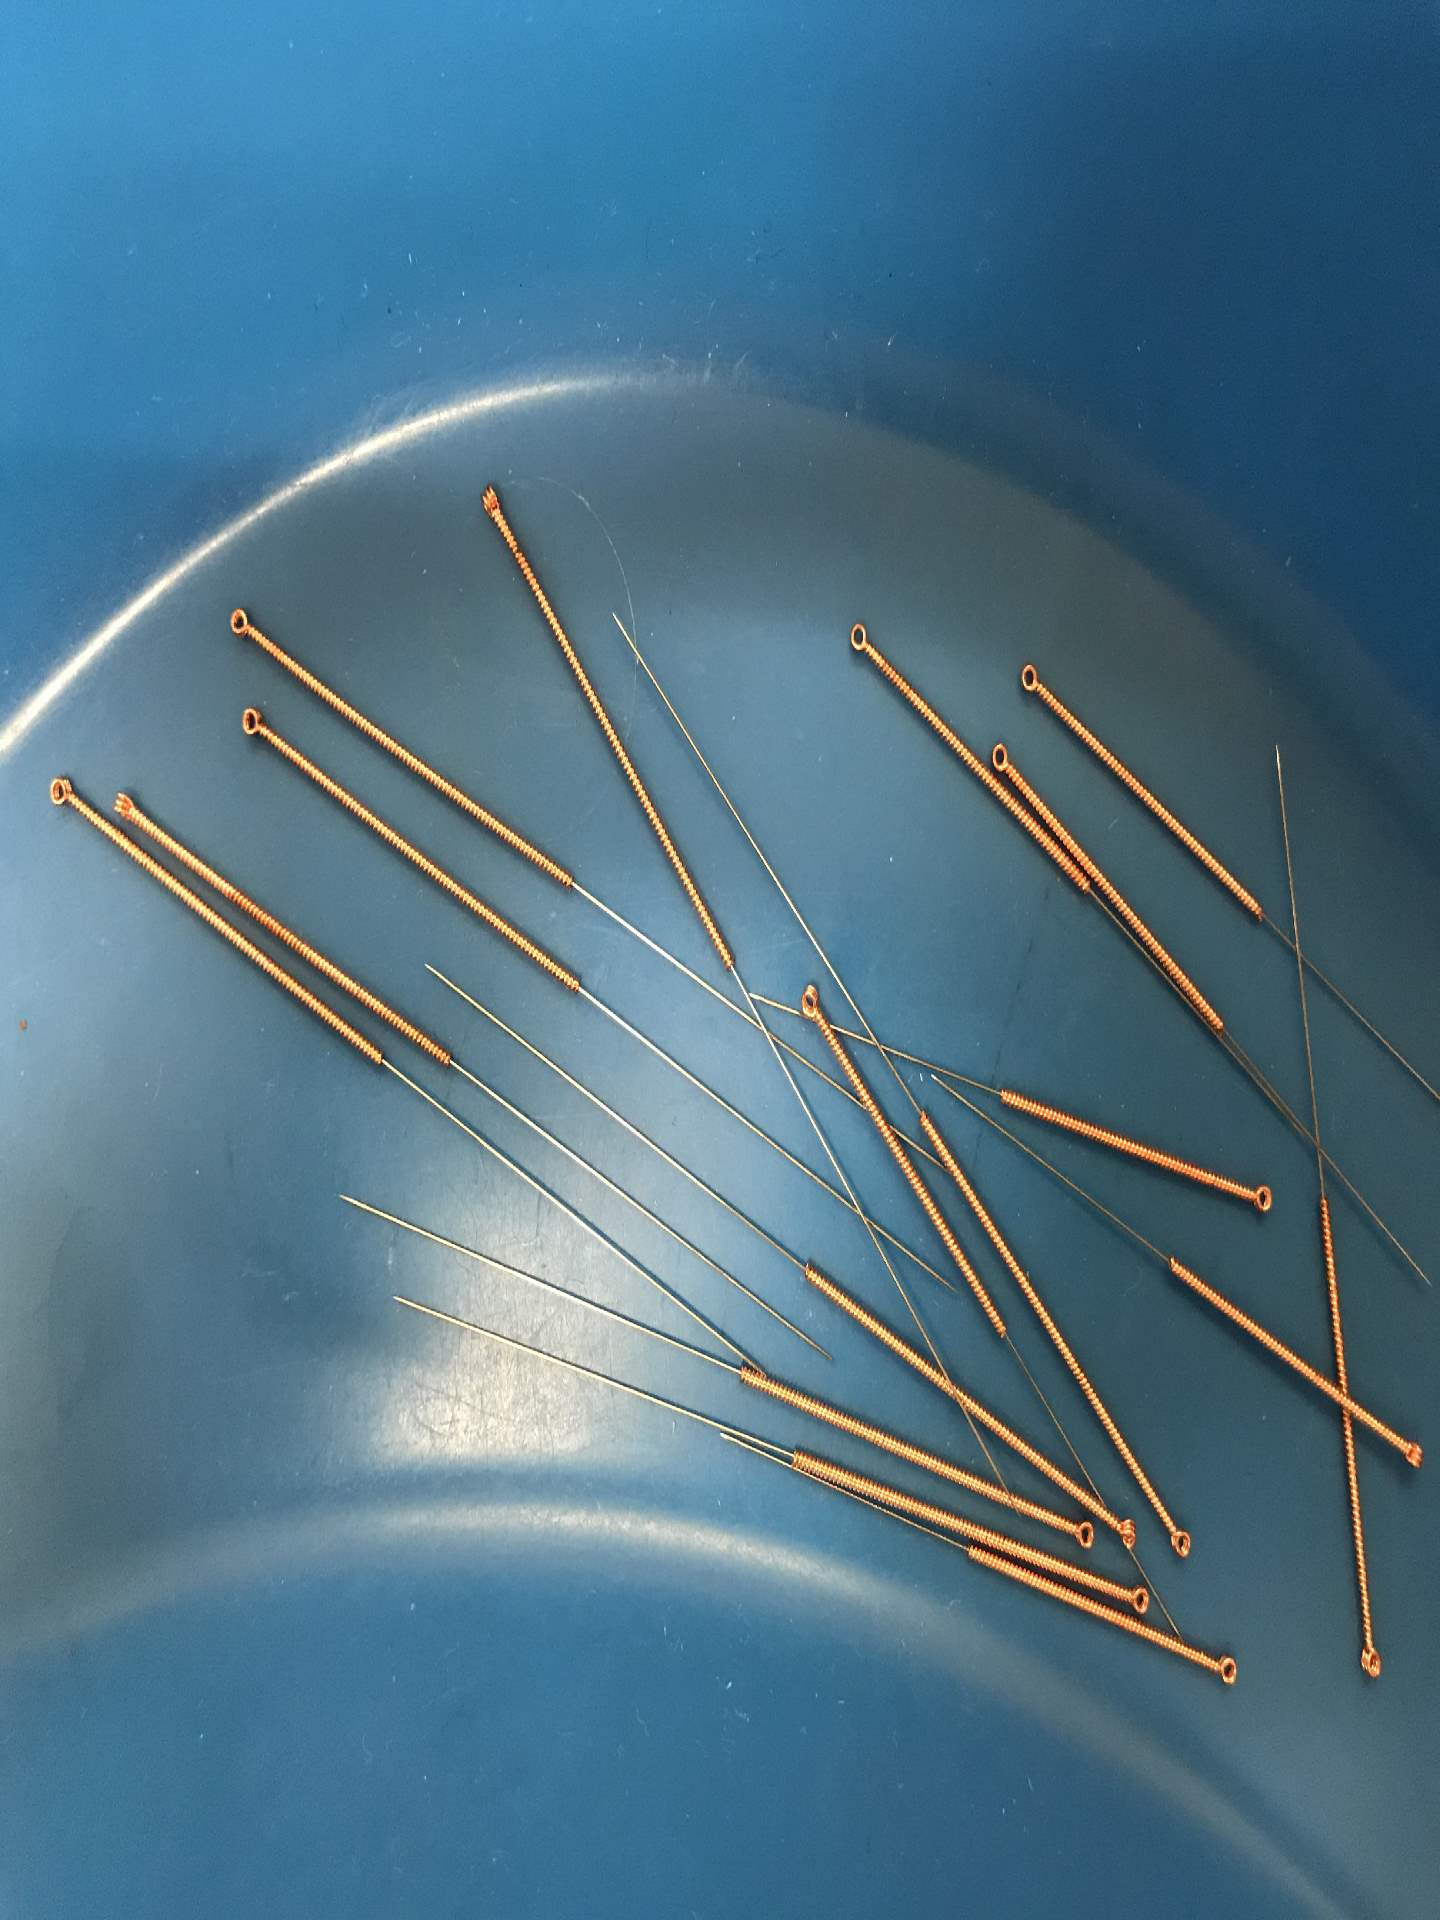needle: (1153, 1503, 1203, 1568), (210, 597, 269, 649), (1234, 1169, 1283, 1231), (461, 472, 510, 531), (833, 609, 882, 667), (1346, 1628, 1389, 1693), (1196, 1645, 1249, 1695), (1384, 1429, 1435, 1479), (788, 977, 833, 1033), (36, 766, 86, 815), (1007, 650, 1051, 705), (227, 700, 275, 745), (1101, 1510, 1147, 1556), (104, 780, 148, 825), (1057, 1515, 1103, 1556), (1116, 1577, 1159, 1619), (985, 732, 1016, 782)
